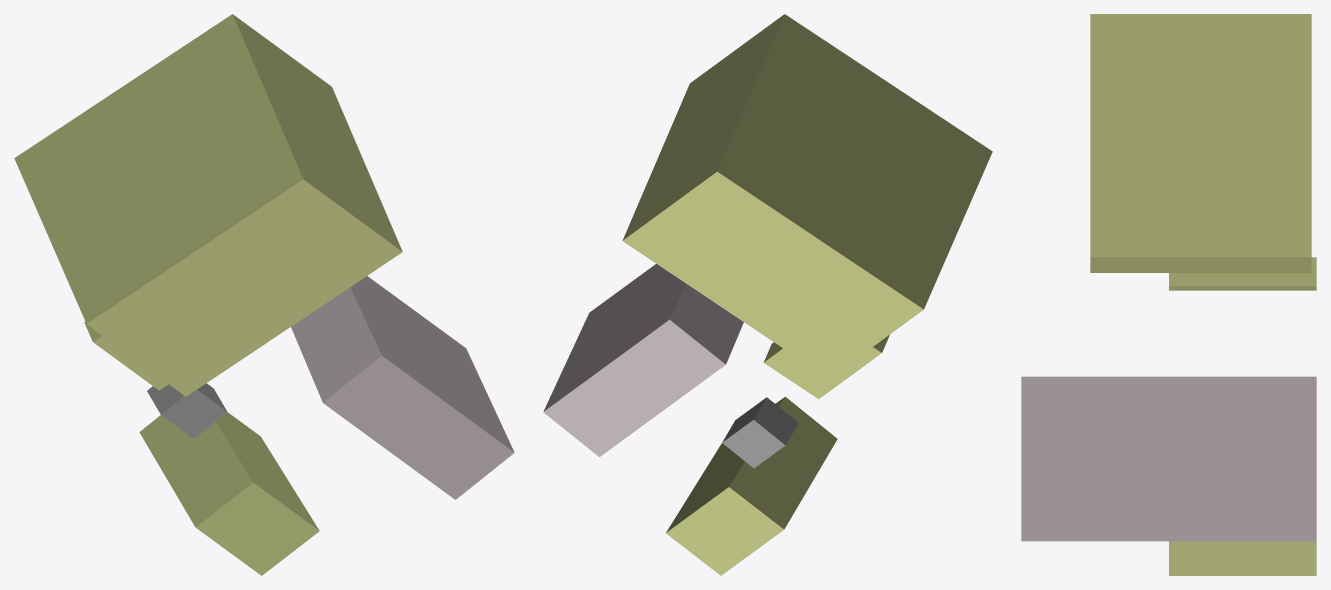
3 views of the same model, side by side, from view 1: azimuth 30°, elevation 25°; view 2: azimuth 150°, elevation 25°; view 3: azimuth 270°, elevation 25° (orthographic). The views are drawn at different scales.
Visible parts, largest first — view 1: 0_1_1_3_2_2_0_3_2_2; view 2: 0_1_1_3_2_2_0_3_2_2; view 3: 0_1_1_3_2_2_0_3_2_2.
Part boxes in pixels (x1=…): 0_1_1_3_2_2_0_3_2_2: x1=14, y1=14, x2=514, y2=575; 0_1_1_3_2_2_0_3_2_2: x1=543, y1=14, x2=992, y2=575; 0_1_1_3_2_2_0_3_2_2: x1=1021, y1=14, x2=1316, y2=575.
Size of the model in its own units: 19.32 by 25.28 by 12.
